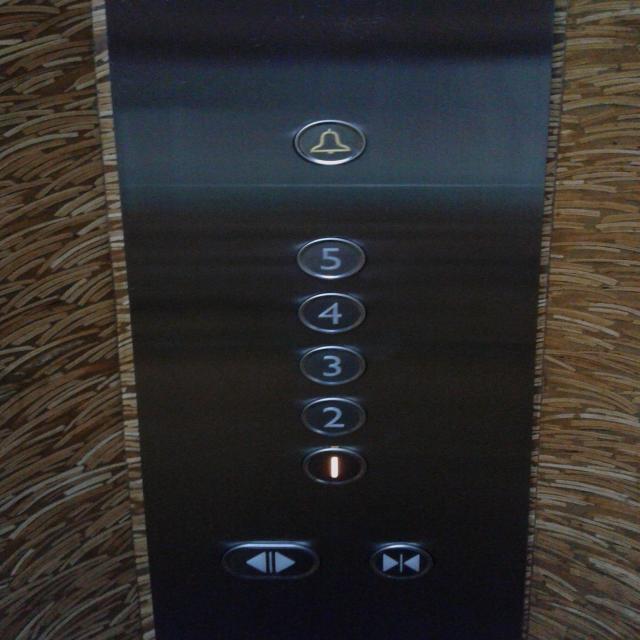1: (302, 445, 371, 487)
2: (297, 394, 368, 440)
3: (294, 342, 371, 388)
4: (293, 290, 370, 335)
5: (290, 234, 370, 282)
alarm: (288, 116, 371, 168)
close: (362, 540, 436, 582)
open: (218, 539, 322, 582)
